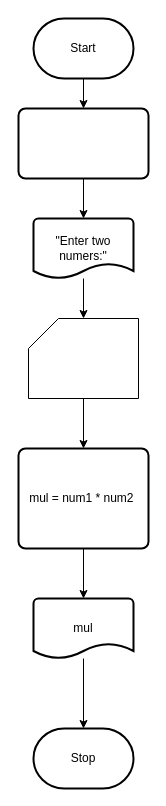
Some shapes in this 166 by 806 pixel diagram are drawn without their labels. Each missing label, with the box of its shape:
num1, num2: (28, 318, 138, 398)
num1, num2, mul: (17, 107, 149, 179)
